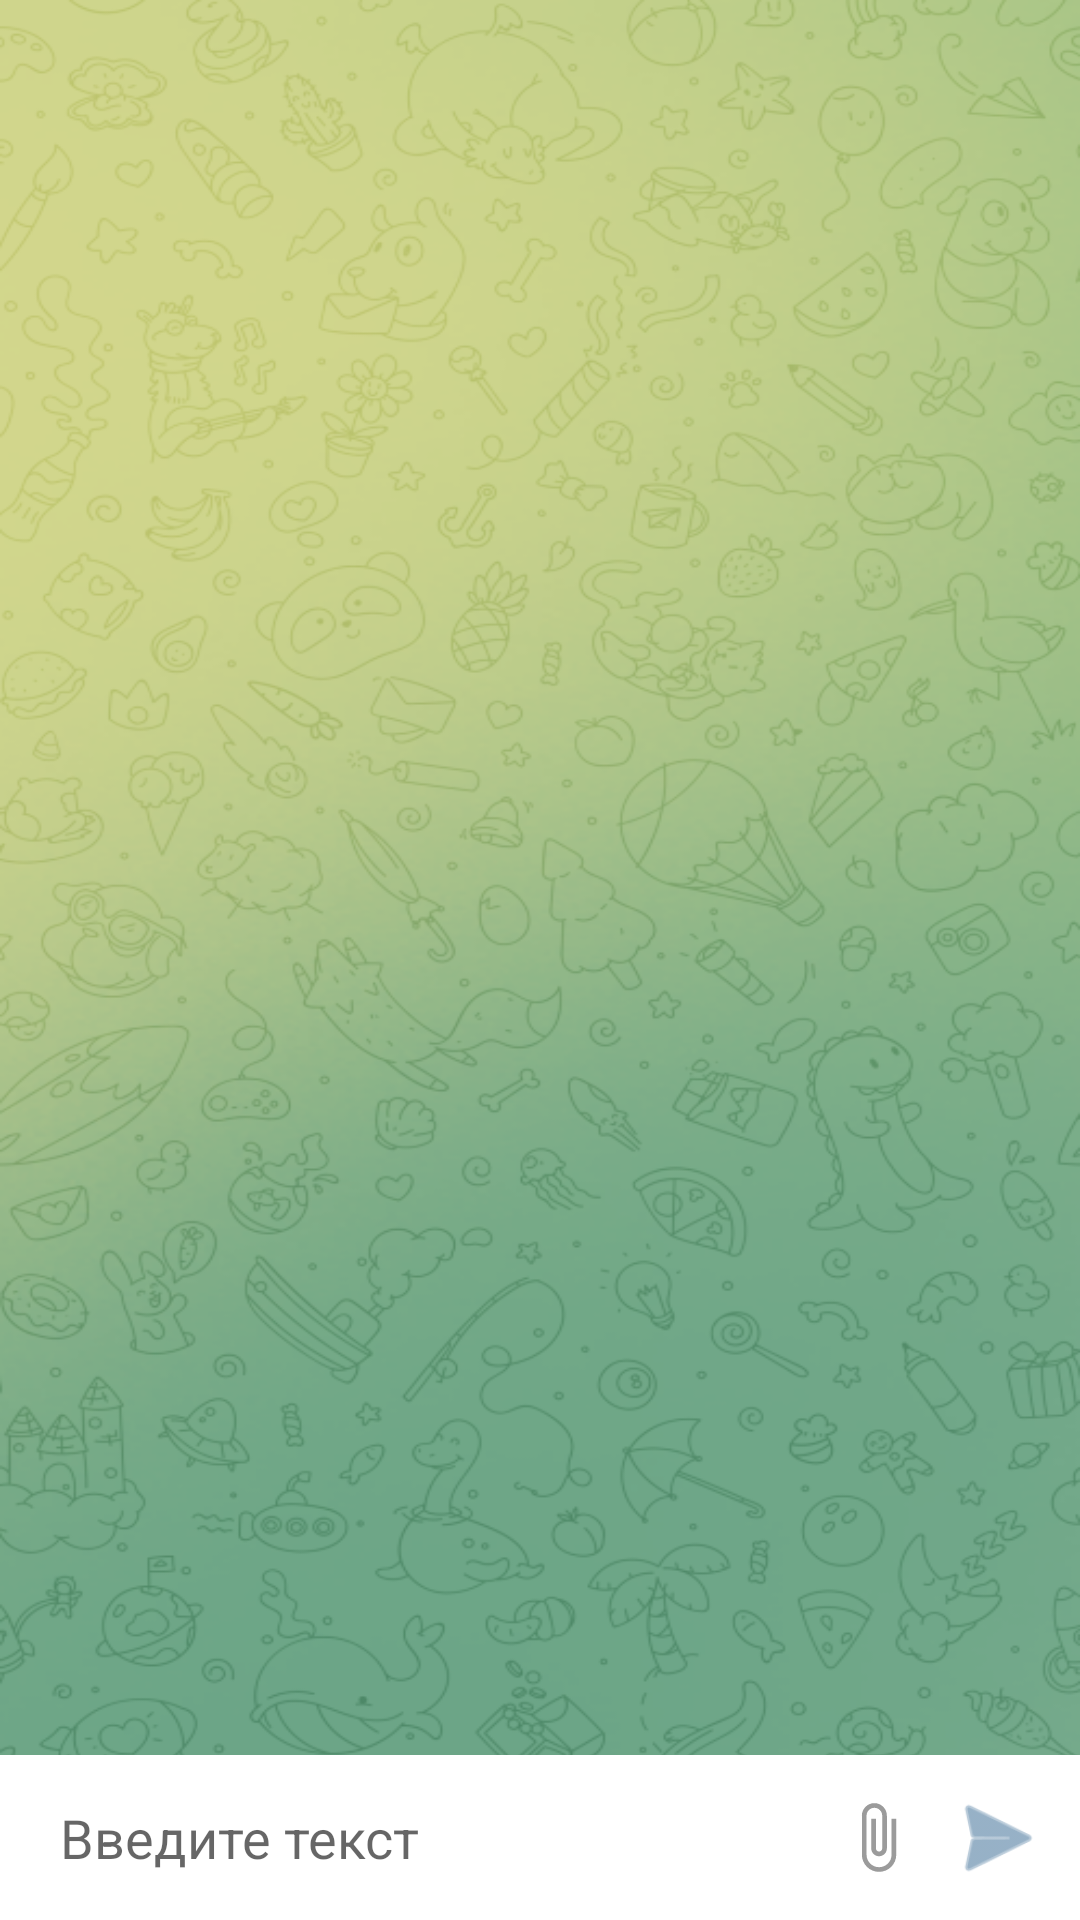

Where to tap for icons on this 1080*1920 app screen, as point (x, y):
attach file: point (879, 1837)
send: point (998, 1838)
